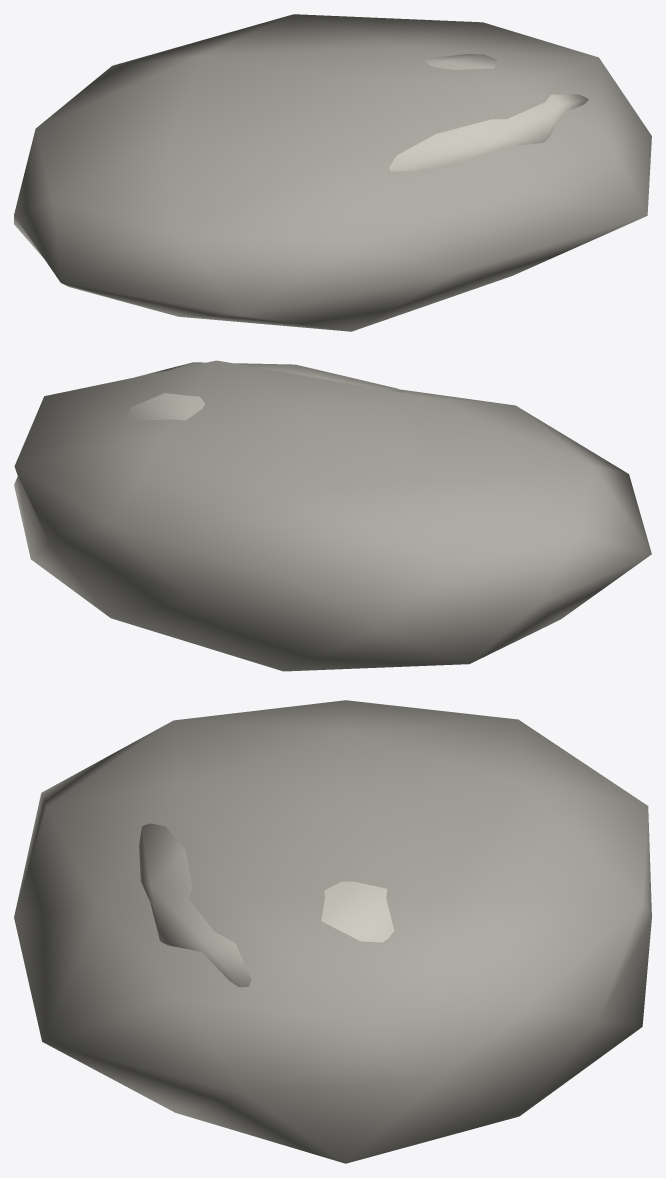
The model's file is RockFlat.fbx.
3 renders of one model, top to bottom at view 1: azimuth 30°, elevation 25°; view 2: azimuth 150°, elevation 25°; view 3: azimuth 270°, elevation 25°, orthographic. The views are drawn at different scales.
Visible parts, largest first — view 1: RockFlat; view 2: RockFlat; view 3: RockFlat.
Boxes of the visible parts, <box> form: RockFlat: <box>14,14,651,331</box>; RockFlat: <box>14,360,651,671</box>; RockFlat: <box>14,700,651,1163</box>.
Bounding box in the file's own units: 1.07 × 0.3118 × 0.7674.
Materials: 1 (1 with a texture image).
